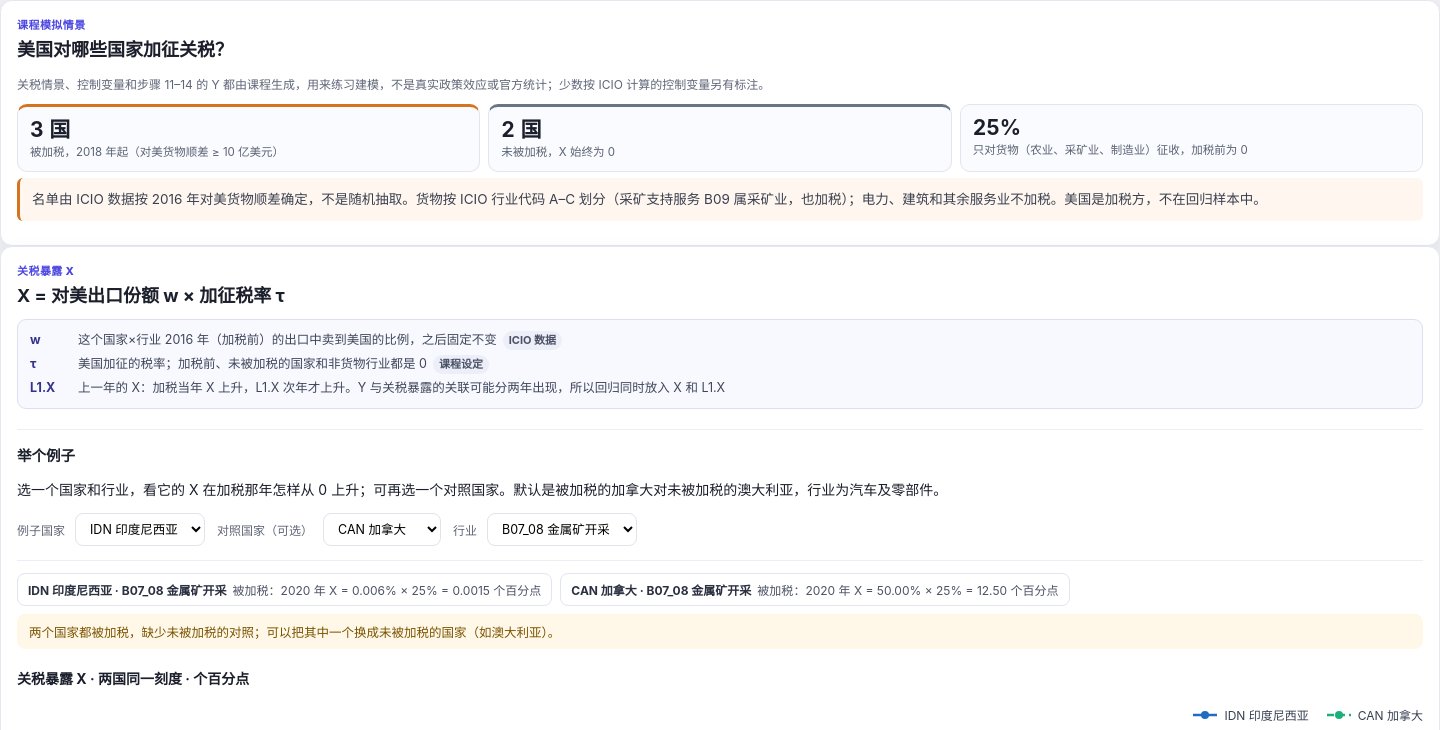
Test: the card says conversions will be close to 0 only when every country of the recorded example has a tiny X
Expected: the list with class "teaching-example-summary" is shown, [17,573,1070,606]
Note: Browsing BRA after submission: the record (IDN with CAN) is unchanged, and the page does not guess about it.
Select "BRA 巴西" in the dropdown labelled "例子国家": (140, 530) [75,513,205,546]
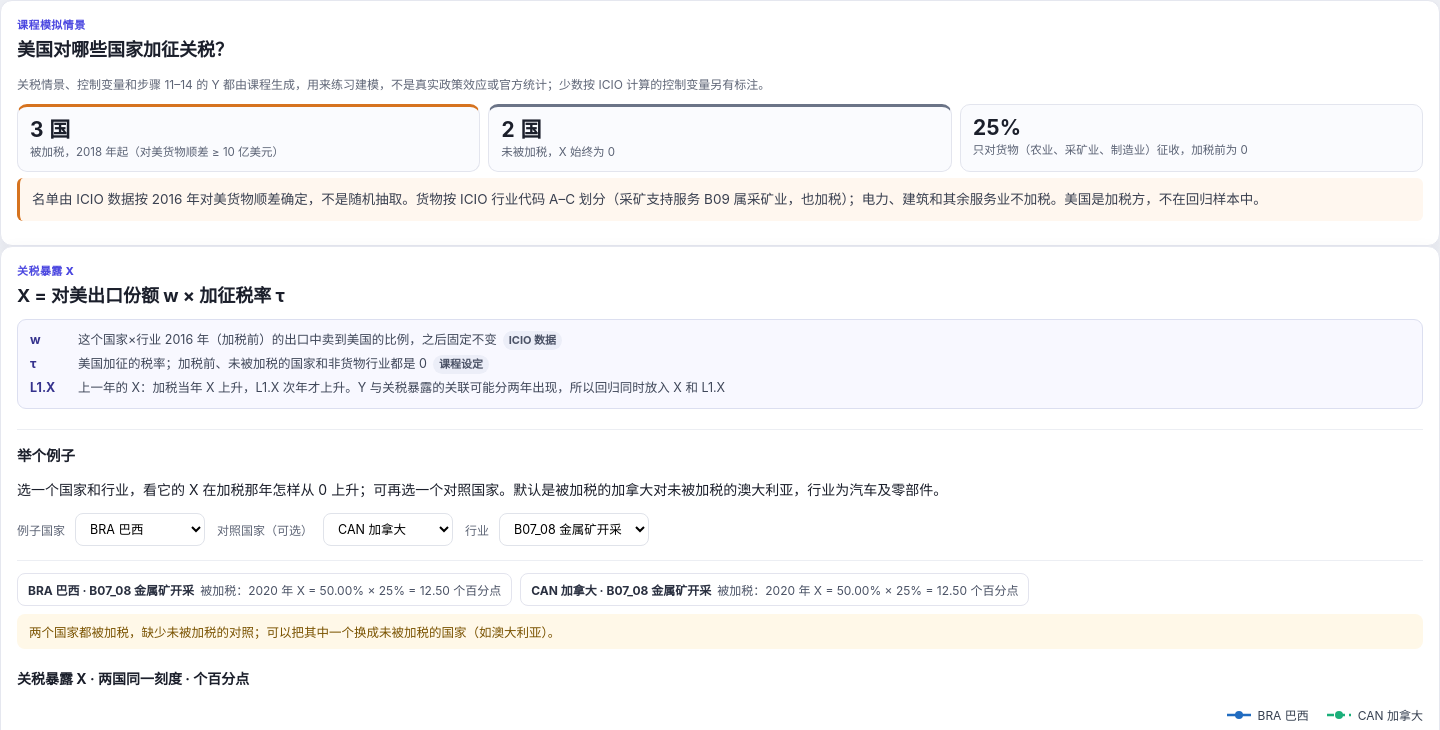
Expected: the list item that starts with "BRA 巴西" is shown, [28,583,80,598]
